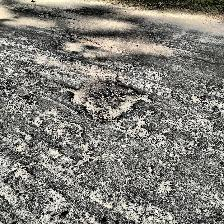pothole: (60, 79, 152, 121)
